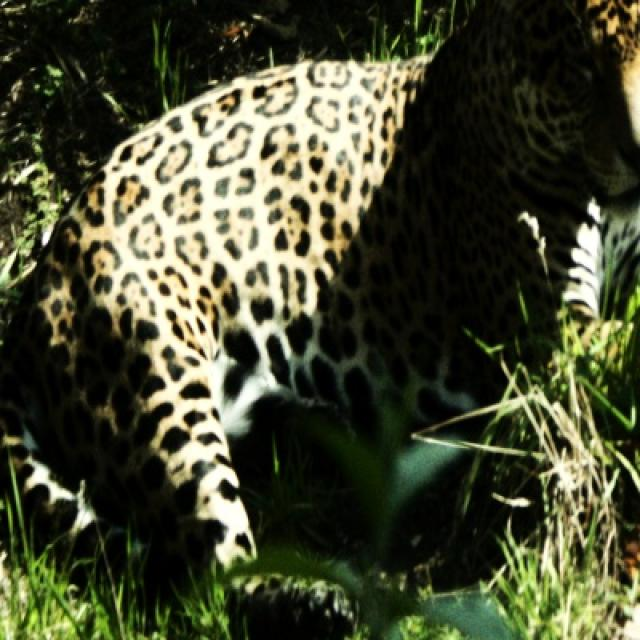Jaguar: (4, 6, 638, 581)
